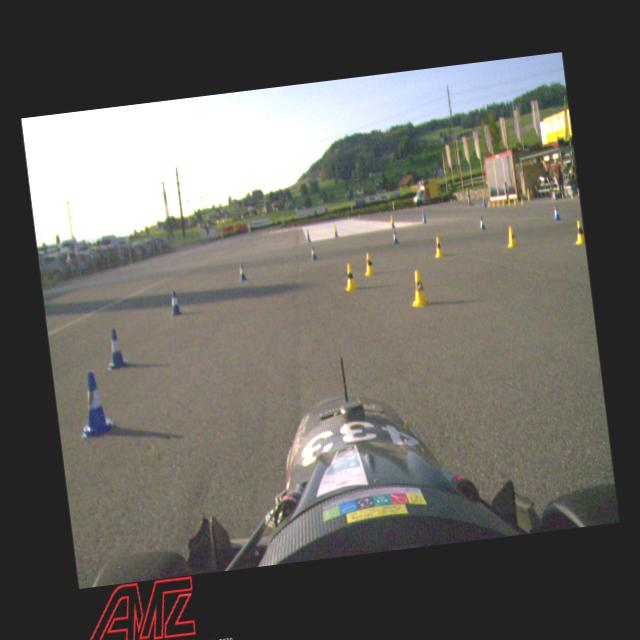blue_cone: (74, 370, 114, 438), (102, 326, 128, 370), (168, 289, 183, 317), (237, 262, 248, 282), (552, 204, 562, 222), (478, 216, 487, 232), (309, 246, 318, 261), (391, 229, 399, 245), (419, 210, 427, 224), (305, 228, 311, 242)
yellow_cone: (408, 268, 431, 309), (342, 262, 359, 292), (362, 250, 377, 278), (572, 220, 584, 246), (433, 236, 445, 259), (506, 224, 516, 248), (512, 197, 518, 207), (506, 198, 512, 206), (500, 198, 506, 206), (570, 190, 574, 200), (520, 196, 524, 205), (497, 200, 500, 207), (488, 200, 490, 207), (492, 200, 494, 207), (262, 232, 264, 236), (286, 228, 288, 232)
